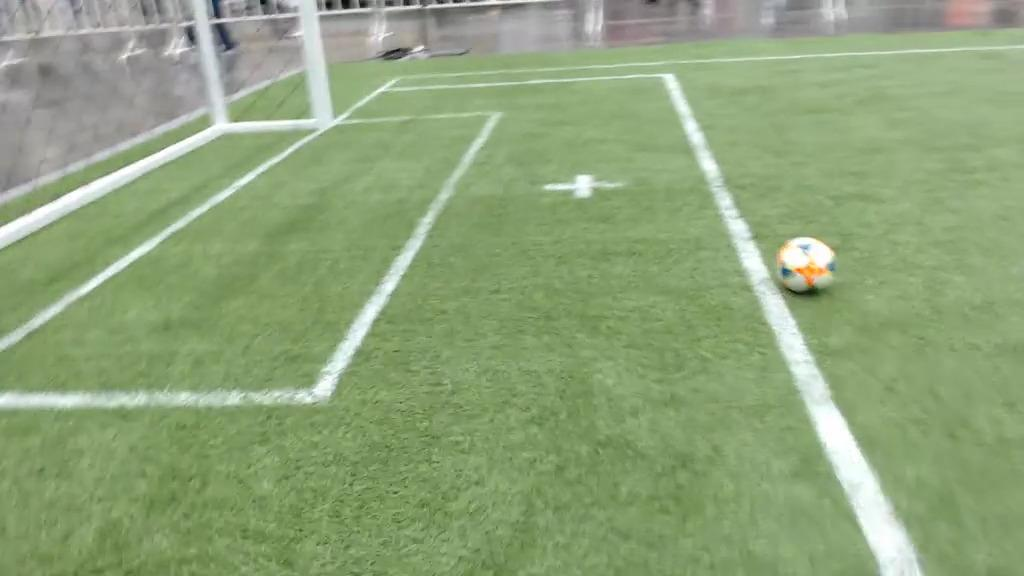ball: (777, 236, 838, 295)
